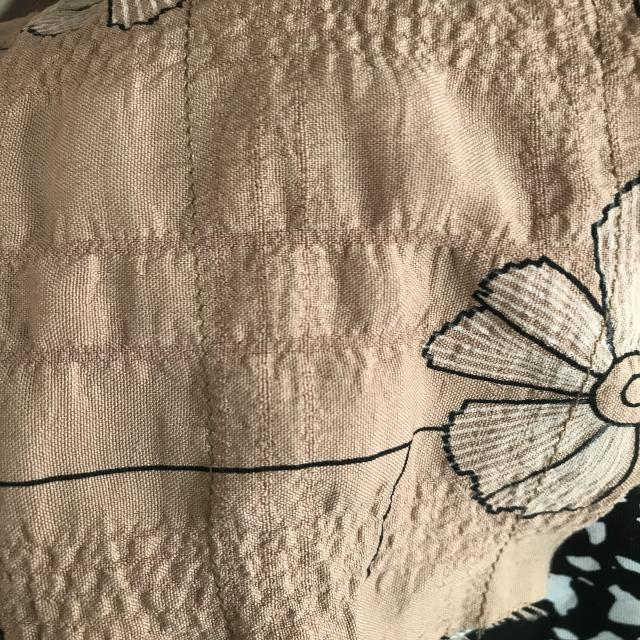good: (174, 86, 205, 210)
